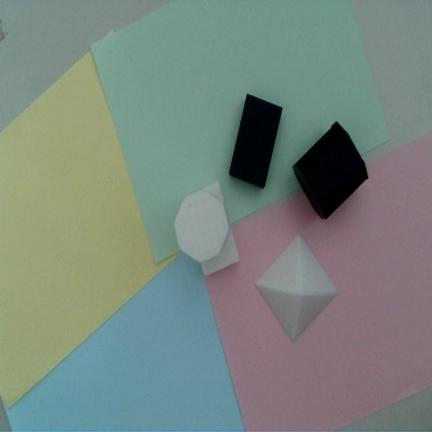Paralelepipedo: (229, 94, 284, 189), (189, 180, 240, 278)
Piramide: (254, 233, 338, 342)
Prisma_hexagonal: (292, 121, 369, 220), (174, 190, 230, 264)
